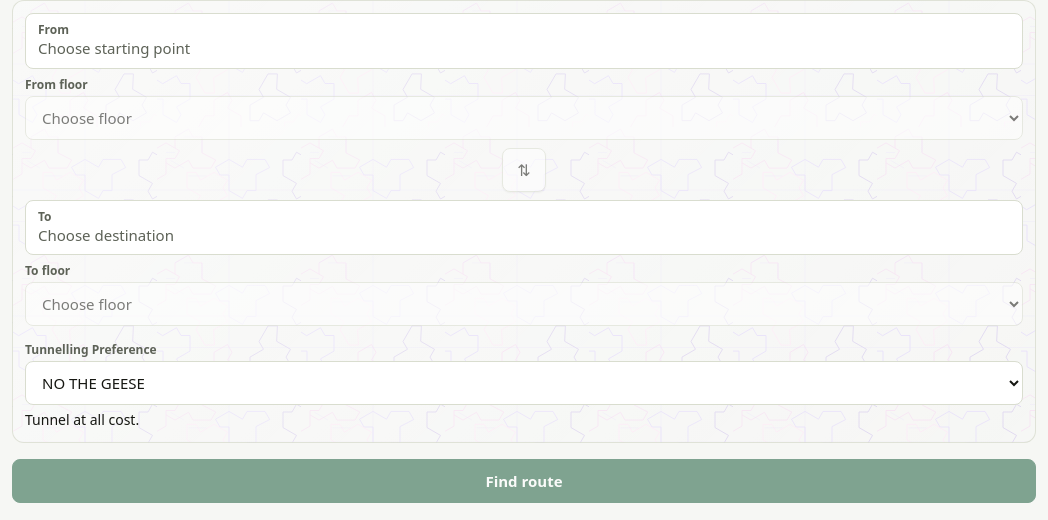
Scenario: RouteForm › explains the selected tunnelling preference
Select "touch grass" in the dropdown labelled "Tunnelling Preference Tunnel at all cost." at point(524, 383), box top-left (25, 361), bottom-right (1023, 405)
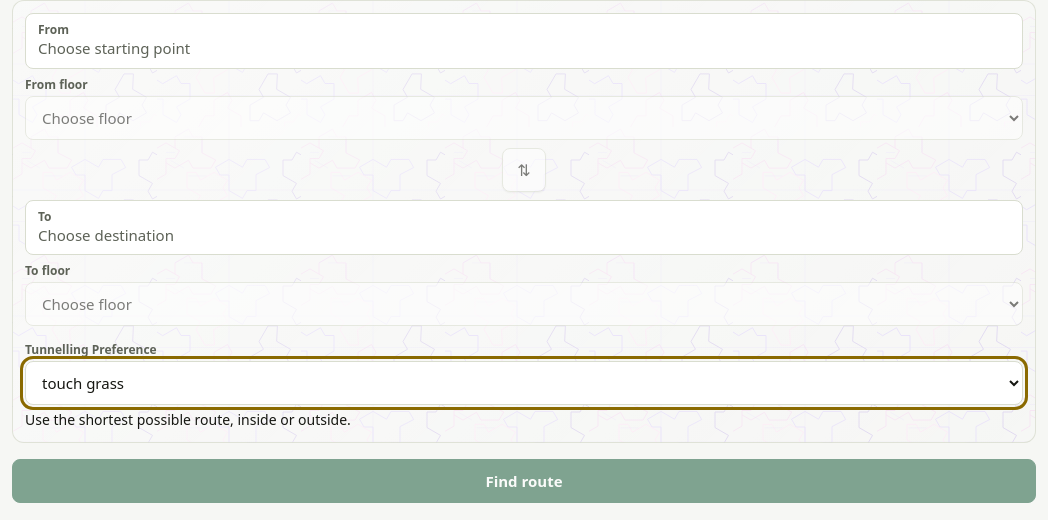
Result: the text "Use the shortest possible route, inside or outside." is shown at top-left (25, 410), bottom-right (351, 429)
